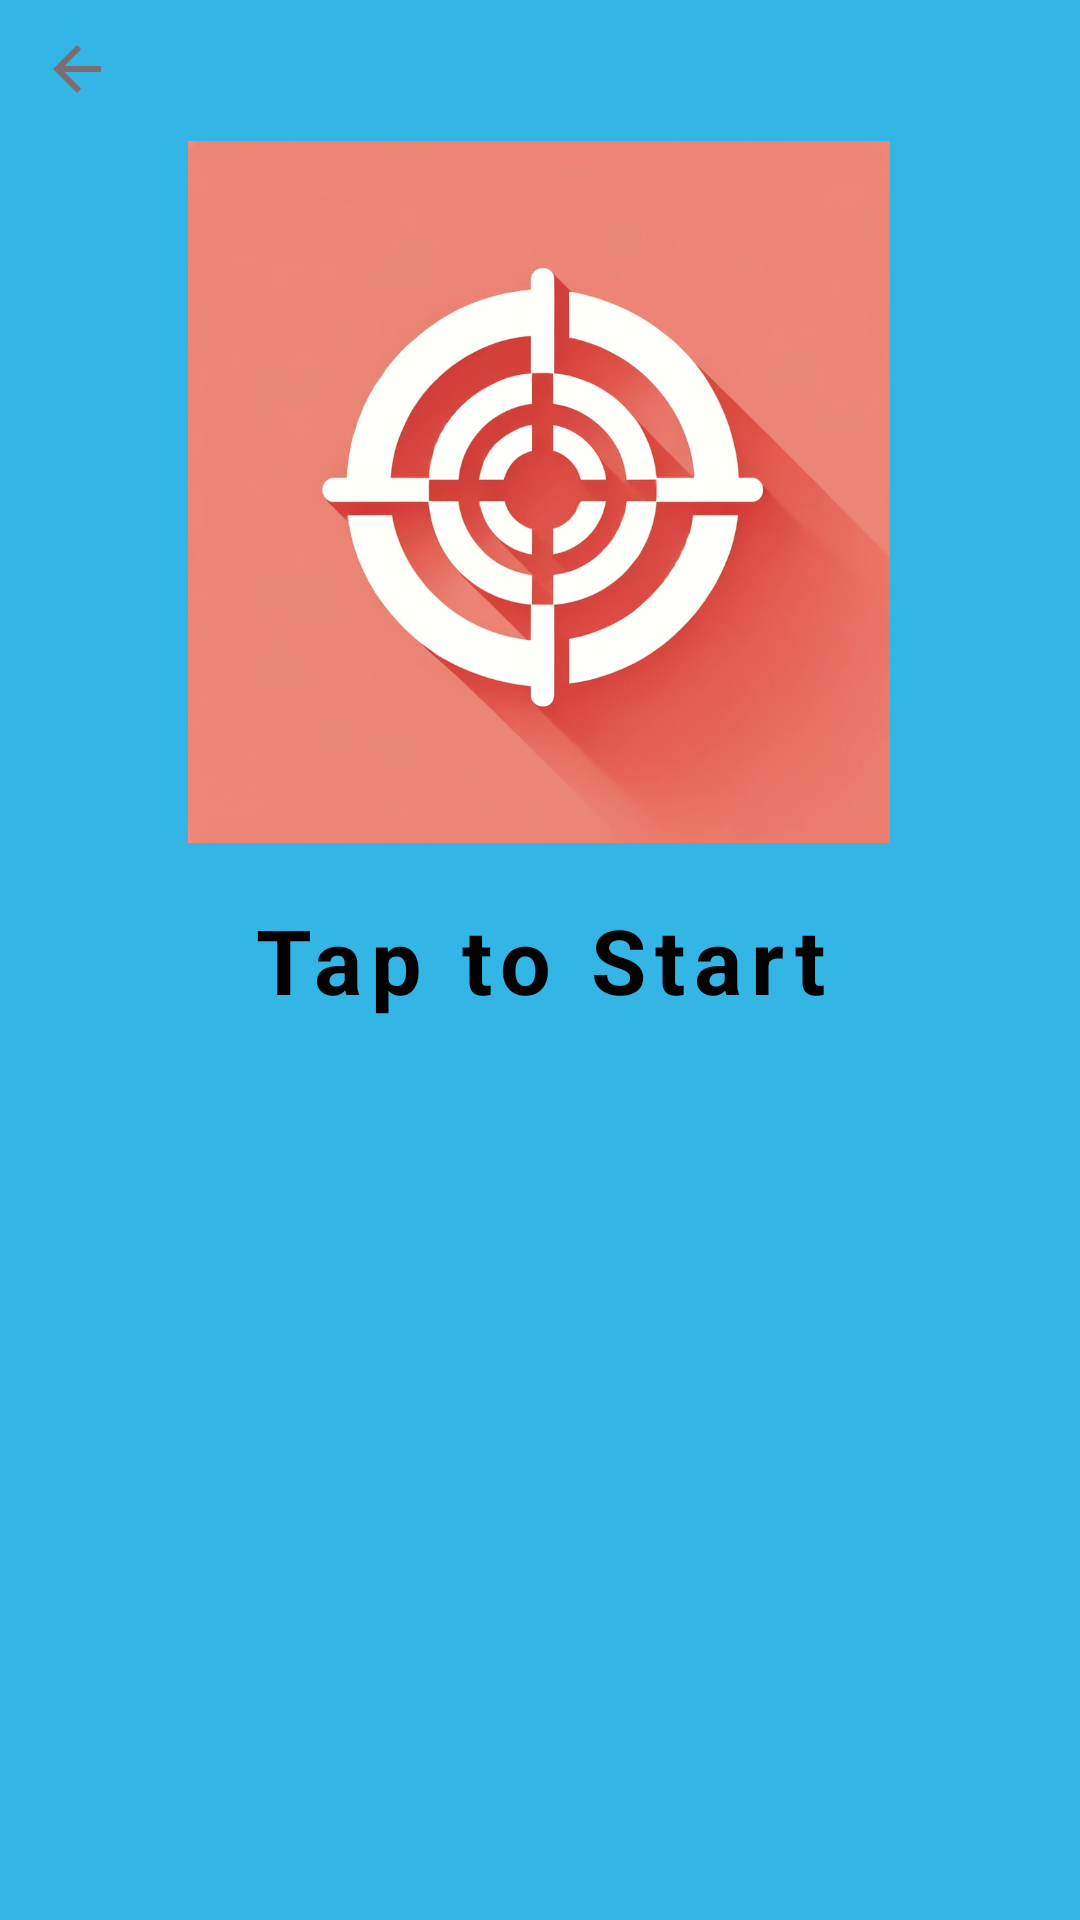

Where to tap for icons on this 1080×1920 app screen, as (x,y):
arrow back: (77,69)
